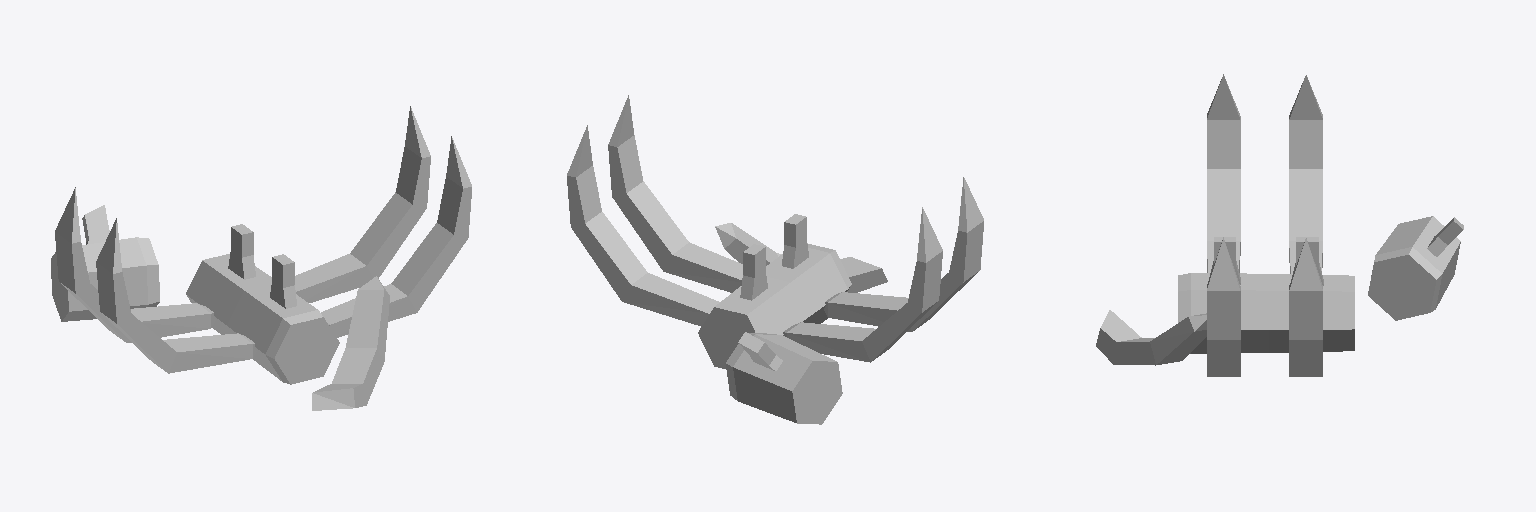
Rendered from Bone_04.obj.
The picture shows the model from 3 angles: view 1: azimuth 30°, elevation 25°; view 2: azimuth 150°, elevation 25°; view 3: azimuth 270°, elevation 25°; orthographic projection.
Parts seen in each view (by area): view 1: Bone_04; view 2: Bone_04; view 3: Bone_04.
Part boxes in pixels (x1,y1,x2,y2): Bone_04: (51, 106, 471, 410); Bone_04: (567, 95, 983, 424); Bone_04: (1096, 74, 1463, 376).
Bounding box in the file's own units: 134 × 71.47 × 119.